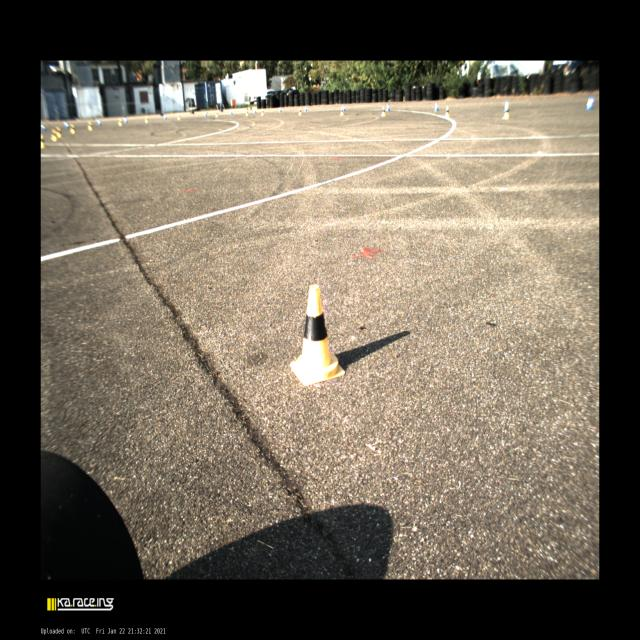blue_cone: (584, 96, 594, 111), (434, 102, 438, 111), (386, 103, 390, 111), (342, 104, 345, 112), (278, 106, 282, 112), (204, 110, 207, 117), (304, 106, 307, 112), (230, 109, 233, 115), (164, 113, 166, 120), (254, 108, 256, 114)
yellow_cone: (290, 285, 345, 385), (502, 106, 510, 119), (445, 106, 450, 118), (381, 106, 386, 116), (298, 108, 302, 116), (340, 109, 344, 116), (145, 115, 148, 124), (261, 109, 264, 116), (215, 111, 218, 118), (246, 109, 248, 116), (178, 114, 180, 120)
